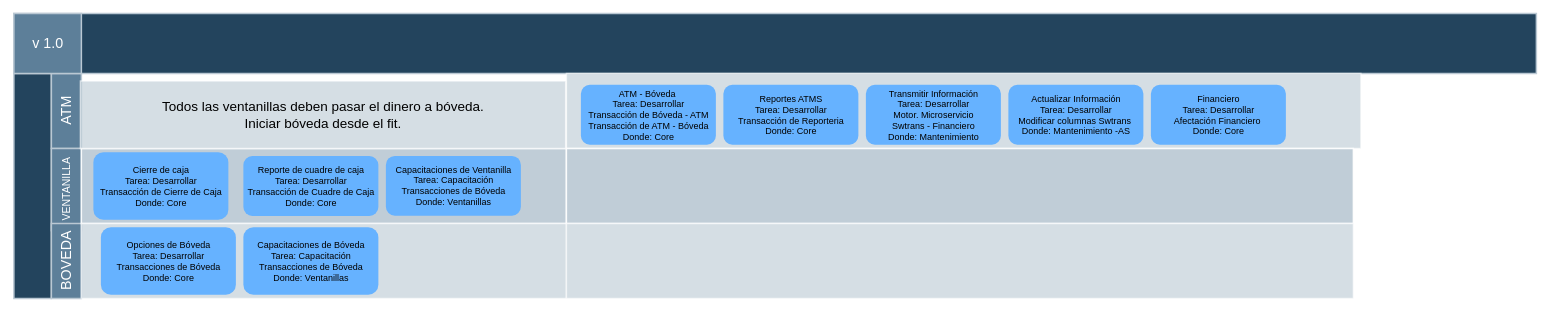
The diagram is 1550 pixels wide and 312 high, and some of its shapes have lost their labels. The shapes that lost their labels are listed below. From the top down, each one's box as (x1, y1, x2, y2) in pixels, then its label:
(13, 12, 1537, 74): CONTABILIDAD
(13, 72, 52, 299): SALDOS DE LA 11 AL MODULO 3
